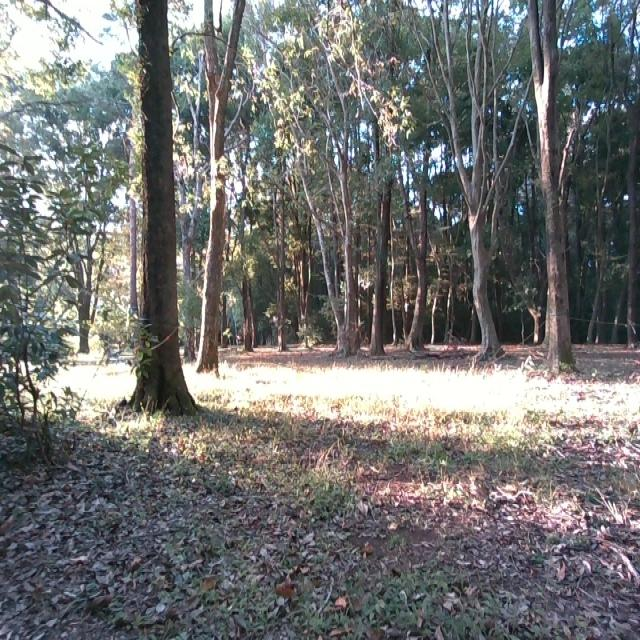bush: (0, 123, 99, 441)
tree: (113, 0, 201, 428), (441, 0, 504, 381), (527, 0, 582, 373), (198, 0, 246, 365), (313, 40, 363, 360), (368, 118, 393, 356), (404, 142, 431, 350)
